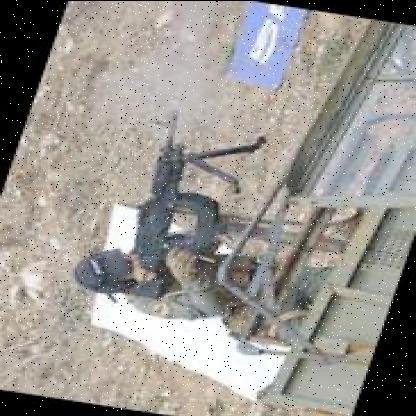rifle: (114, 104, 232, 274)
